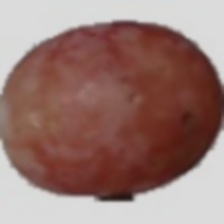grapes: (21, 16, 170, 211)
